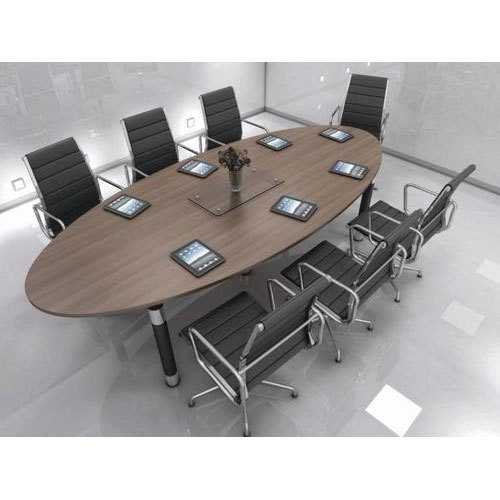conference_table: (26, 125, 383, 387)
